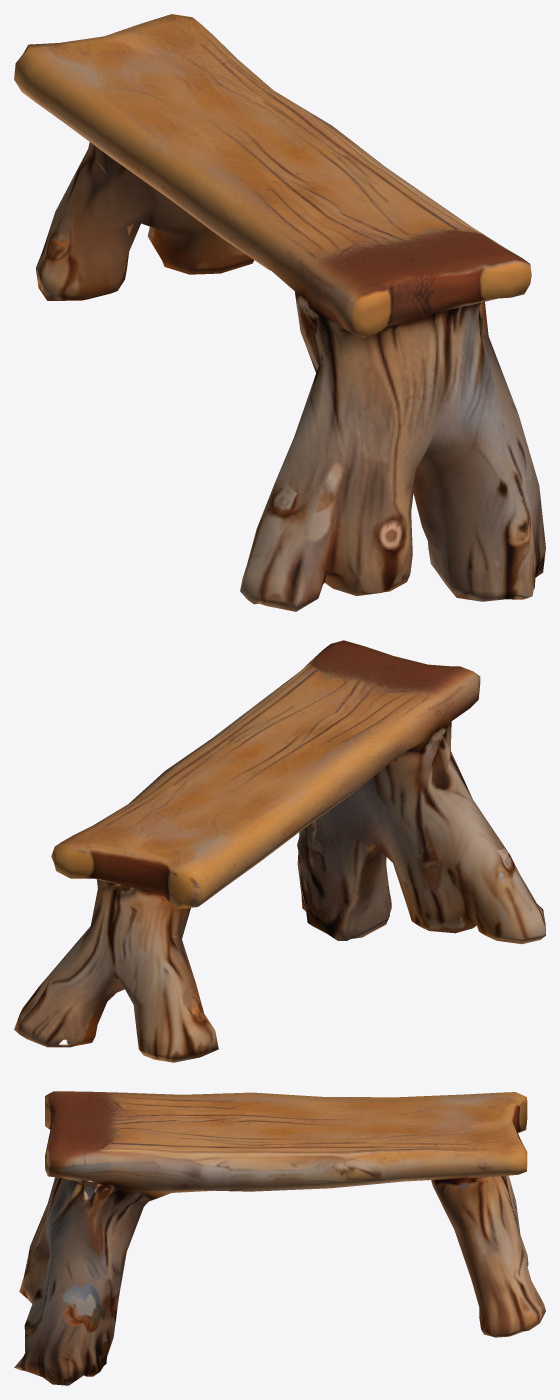
The model's file is 6053007-bench-rustic.glb.
The picture shows the model from 3 angles, top to bottom: view 1: azimuth 30°, elevation 25°; view 2: azimuth 150°, elevation 25°; view 3: azimuth 270°, elevation 25°; orthographic projection. The views are drawn at different scales.
Visible parts, largest first — view 1: Retopo_neural_node_feeb92d7-751e-4b01-9b93-9573f15a2d39; view 2: Retopo_neural_node_feeb92d7-751e-4b01-9b93-9573f15a2d39; view 3: Retopo_neural_node_feeb92d7-751e-4b01-9b93-9573f15a2d39.
Boxes of the visible parts, bbox=[...] form: Retopo_neural_node_feeb92d7-751e-4b01-9b93-9573f15a2d39: bbox=[14, 14, 545, 611]; Retopo_neural_node_feeb92d7-751e-4b01-9b93-9573f15a2d39: bbox=[14, 640, 545, 1062]; Retopo_neural_node_feeb92d7-751e-4b01-9b93-9573f15a2d39: bbox=[14, 1091, 545, 1385].
Size of the model in its own units: 0.4709 by 0.4594 by 0.9389.
1 material, 1 textured.
